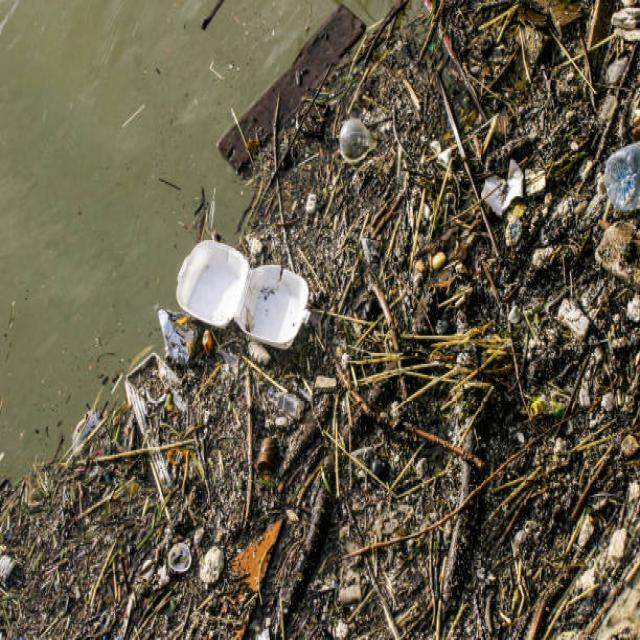plastic: (178, 248, 314, 372)
